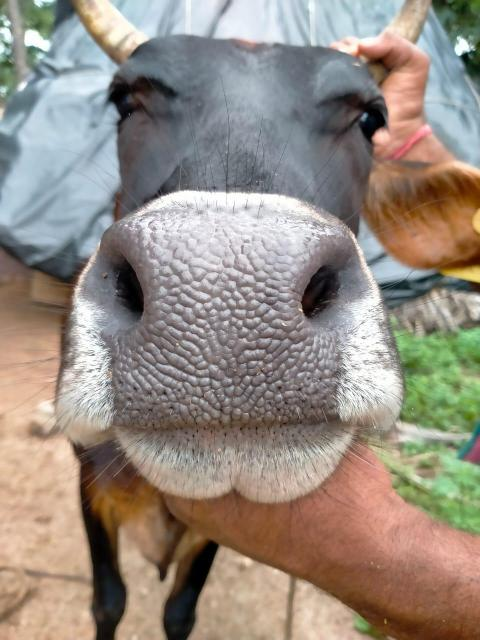Muzzle: (119, 220, 331, 416)
